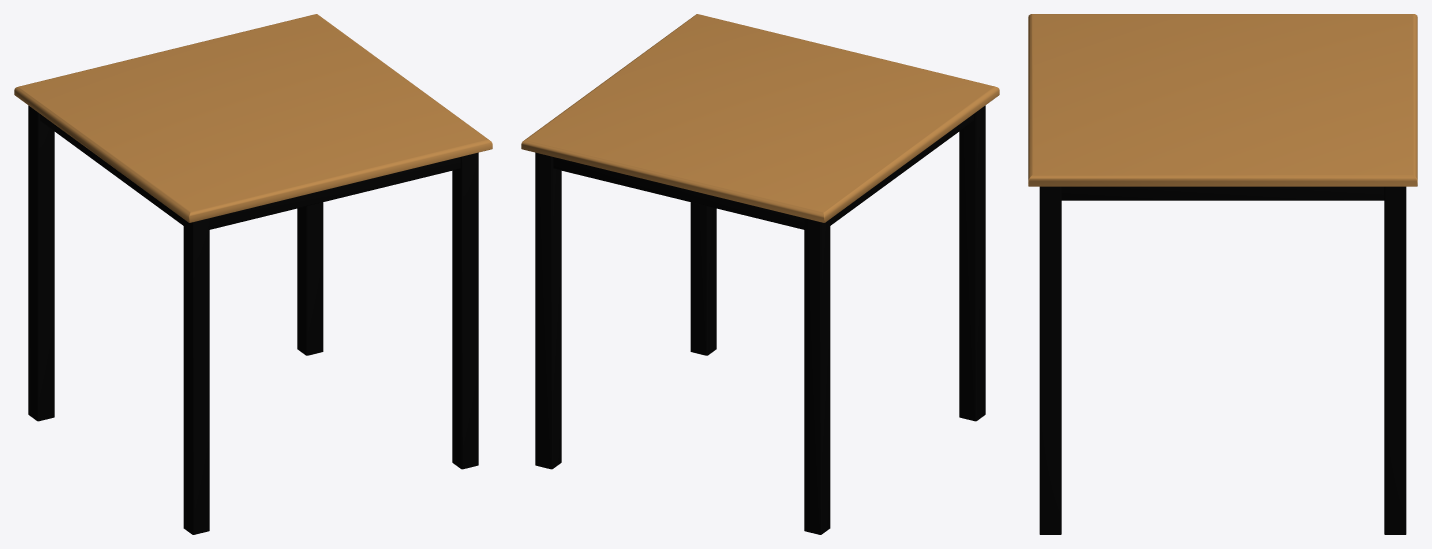
Rendered from Стол.fbx.
The picture shows the model from 3 angles, left to right: view 1: azimuth 30°, elevation 25°; view 2: azimuth 150°, elevation 25°; view 3: azimuth 270°, elevation 25°; orthographic projection. The views are drawn at different scales.
Parts seen in each view (by area): view 1: Table.001; view 2: Table.001; view 3: Table.001.
Boxes of the visible parts, box(x1,y1,x2,y2) form: Table.001: box(14, 14, 492, 534); Table.001: box(521, 14, 999, 534); Table.001: box(1028, 14, 1417, 534).
Size of the model in its own units: 70 by 72 by 70.
